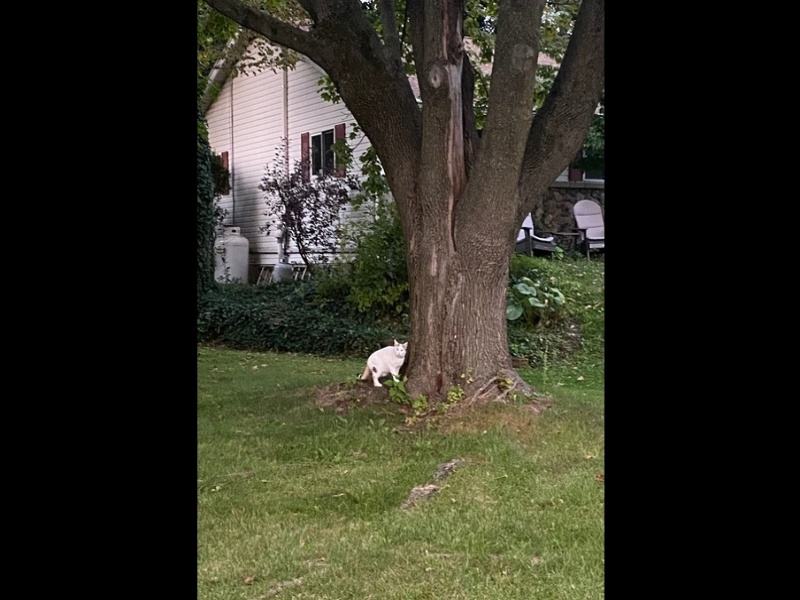cat: (357, 337, 409, 392)
